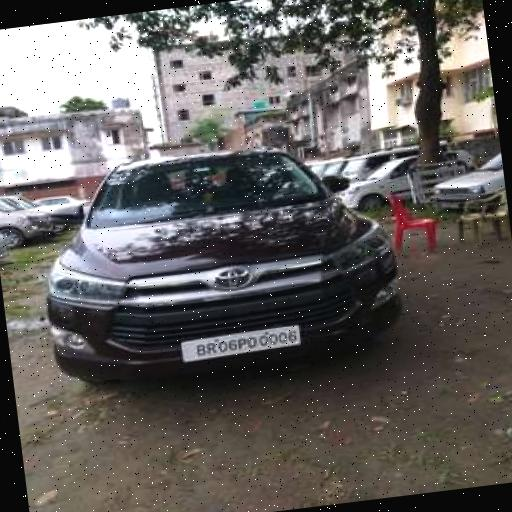license_plate`: (177, 322, 300, 362)
